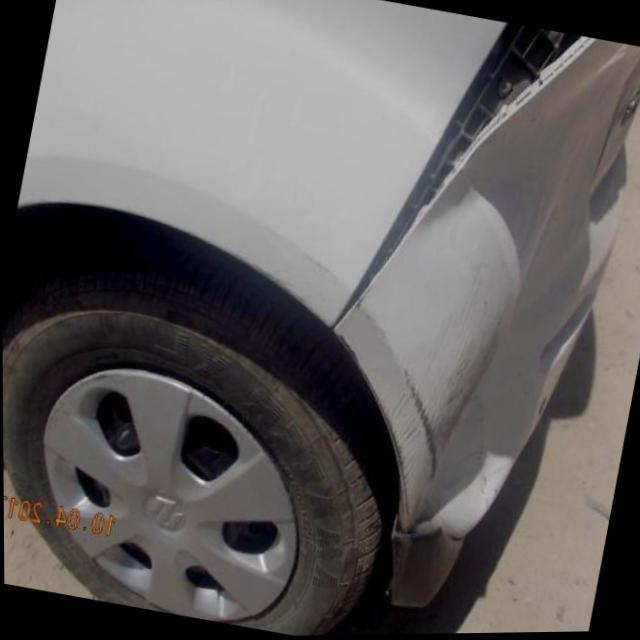Car-Damage: (333, 5, 595, 365), (409, 299, 552, 546), (384, 361, 451, 459)
